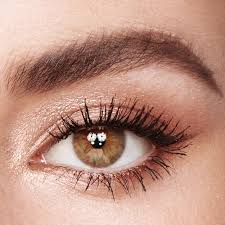pupil: (71, 125, 125, 167)
